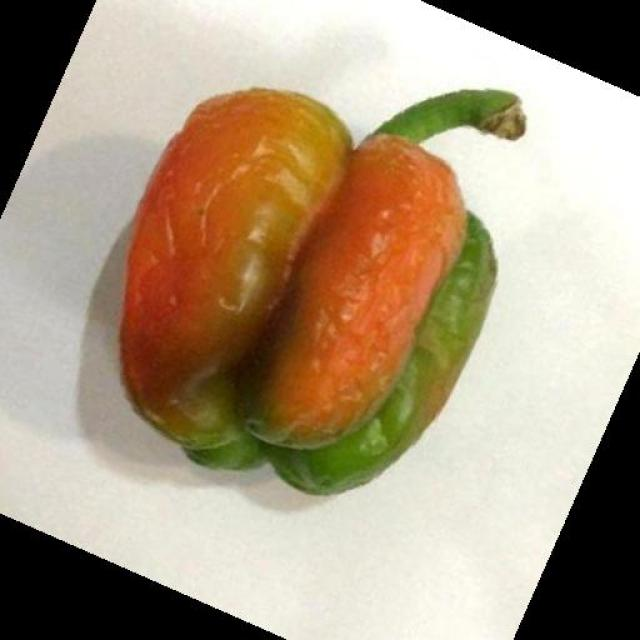Stale_Capsicum: (113, 64, 540, 518)
